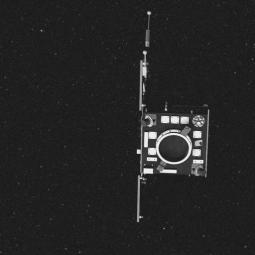proba_2: (129, 5, 221, 224)
